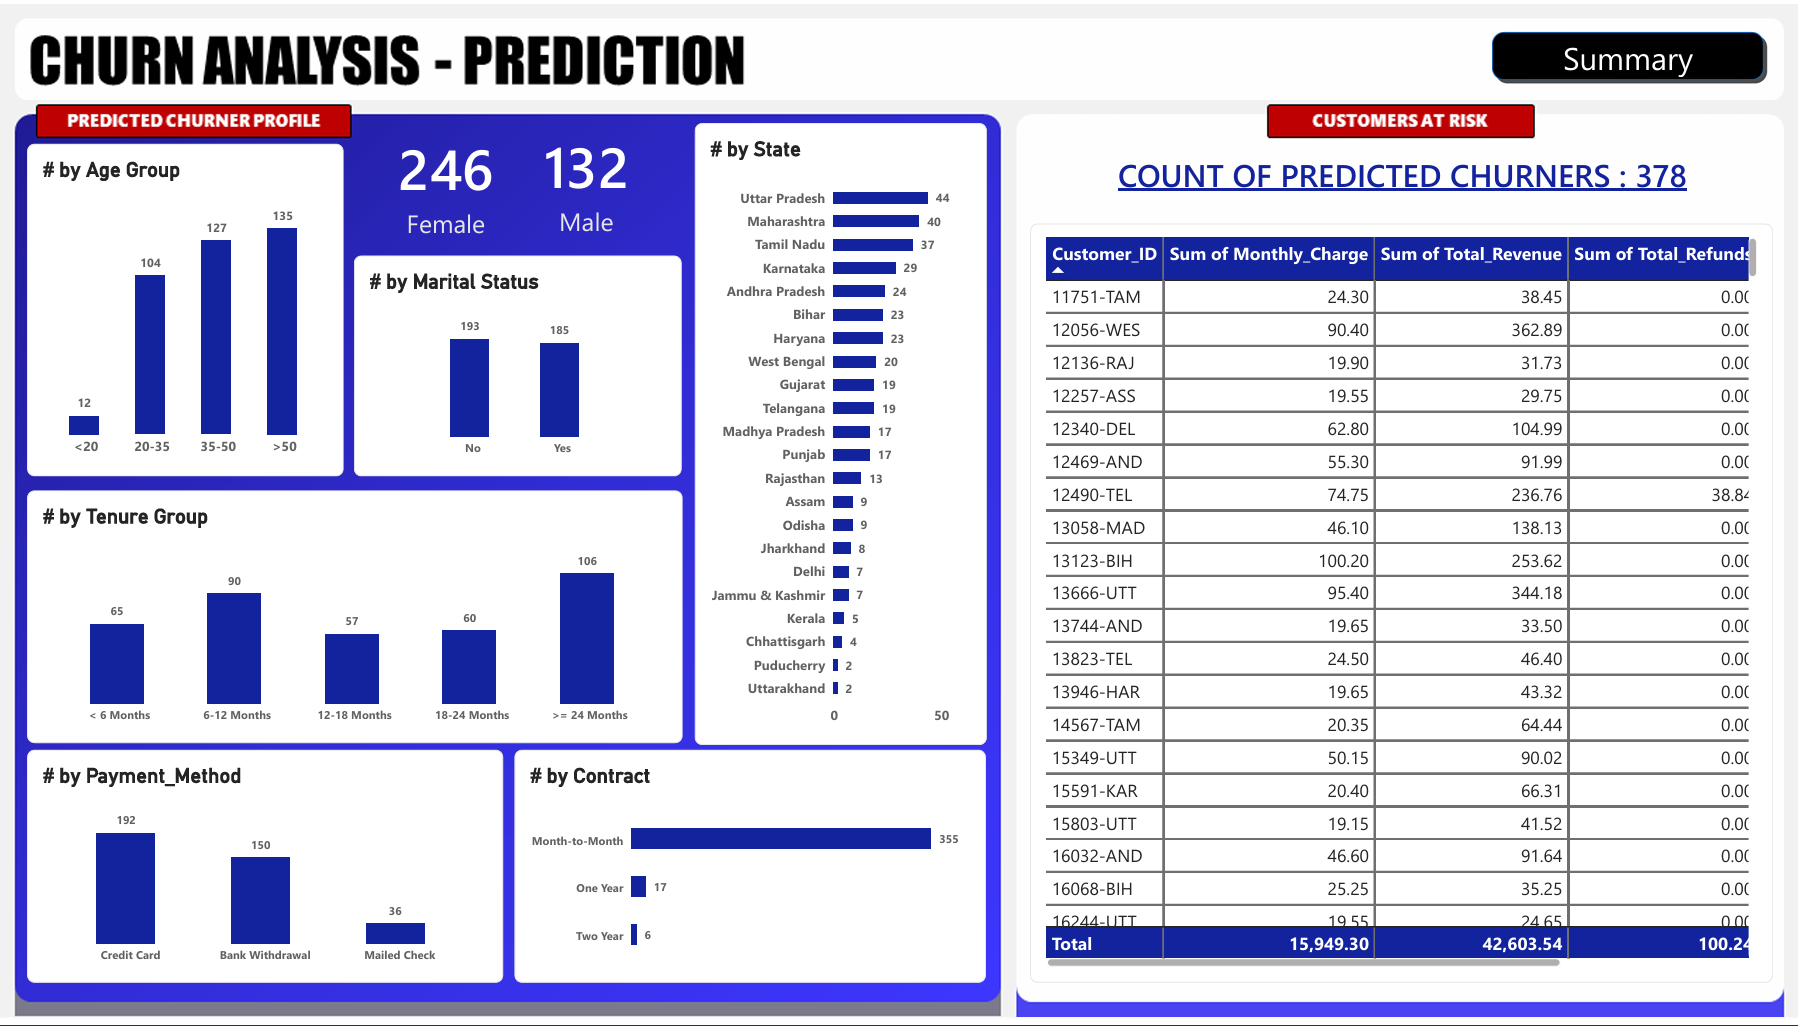

What the dashboard file says about the page in this screenshot:
{"tool":"powerbi","page":{"name":"Churn Prediction","canvas":[1920,1080],"ordinal":2},"visuals":[{"type":"tableEx","fields":{"Values":["Predictions.Customer_ID","Sum(Predictions.Monthly_Charge)","Sum(Predictions.Total_Revenue)","Sum(Predictions.Total_Refunds)","Sum(Predictions.Number_of_Referrals)"]},"box":[1099,233.4,790.6,808.3],"z":0},{"type":"cardVisual","fields":{"Data":["tbl_Measures.Title Predicted Churner"]},"box":[1105.6,125.5,779.2,108.9],"z":1000},{"type":"cardVisual","fields":{"Data":["tbl_Measures.Count Predicted Churner"]},"box":[367.5,85.1,220.2,215.8],"z":2000},{"type":"cardVisual","fields":{"Data":["tbl_Measures.Count Predicted Churner"]},"box":[512.1,83.4,229,215.8],"z":3000},{"type":"clusteredColumnChart","fields":{"Category":["mapping_AgeGrp.Age Group"],"Y":["CountNonNull(Predictions.Customer_ID)"]},"box":[30.6,148,336.9,353.9],"z":3001},{"type":"clusteredColumnChart","fields":{"Category":["Predictions.Married"],"Y":["CountNonNull(Predictions.Customer_ID)"]},"box":[379.4,267.1,348.8,234.8],"z":3002},{"type":"clusteredColumnChart","fields":{"Category":["mapping_TenureGrp.Tenure Group"],"Y":["CountNonNull(Predictions.Customer_ID)"]},"box":[30.6,517.2,697.5,268.8],"z":3003},{"type":"clusteredColumnChart","fields":{"Category":["Predictions.Payment_Method"],"Y":["CountNonNull(Predictions.Customer_ID)"]},"box":[30.6,792.8,507,248.4],"z":3004},{"type":"clusteredBarChart","fields":{"Category":["Predictions.Contract"],"Y":["CountNonNull(Predictions.Customer_ID)"]},"box":[549.5,792.8,501.9,248.4],"z":3005},{"type":"clusteredBarChart","fields":{"Category":["Predictions.State"],"Y":["CountNonNull(Predictions.Customer_ID)"]},"box":[741.8,125.9,311.3,661.8],"z":3006},{"type":"shape","box":[1585.6,23.8,299.4,61.2],"z":3007}]}

Visuals, with their boxes in screenshot pixels (x1, y1, x2, y2), scaled from the page's 1920x1080 canvas onto the 1798x1026 screenshot:
tableEx - Predictions.Customer_ID x Sum(Predictions.Monthly_Charge): box(1029, 222, 1770, 990)
cardVisual - tbl_Measures.Title Predicted Churner: box(1035, 119, 1765, 223)
cardVisual - tbl_Measures.Count Predicted Churner: box(344, 81, 550, 286)
cardVisual - tbl_Measures.Count Predicted Churner: box(480, 79, 694, 284)
clusteredColumnChart - mapping_AgeGrp.Age Group x CountNonNull(Predictions.Customer_ID): box(29, 141, 344, 477)
clusteredColumnChart - Predictions.Married x CountNonNull(Predictions.Customer_ID): box(355, 254, 682, 477)
clusteredColumnChart - mapping_TenureGrp.Tenure Group x CountNonNull(Predictions.Customer_ID): box(29, 491, 682, 747)
clusteredColumnChart - Predictions.Payment_Method x CountNonNull(Predictions.Customer_ID): box(29, 753, 503, 989)
clusteredBarChart - Predictions.Contract x CountNonNull(Predictions.Customer_ID): box(515, 753, 985, 989)
clusteredBarChart - Predictions.State x CountNonNull(Predictions.Customer_ID): box(695, 120, 986, 748)
shape: box(1485, 23, 1765, 81)
